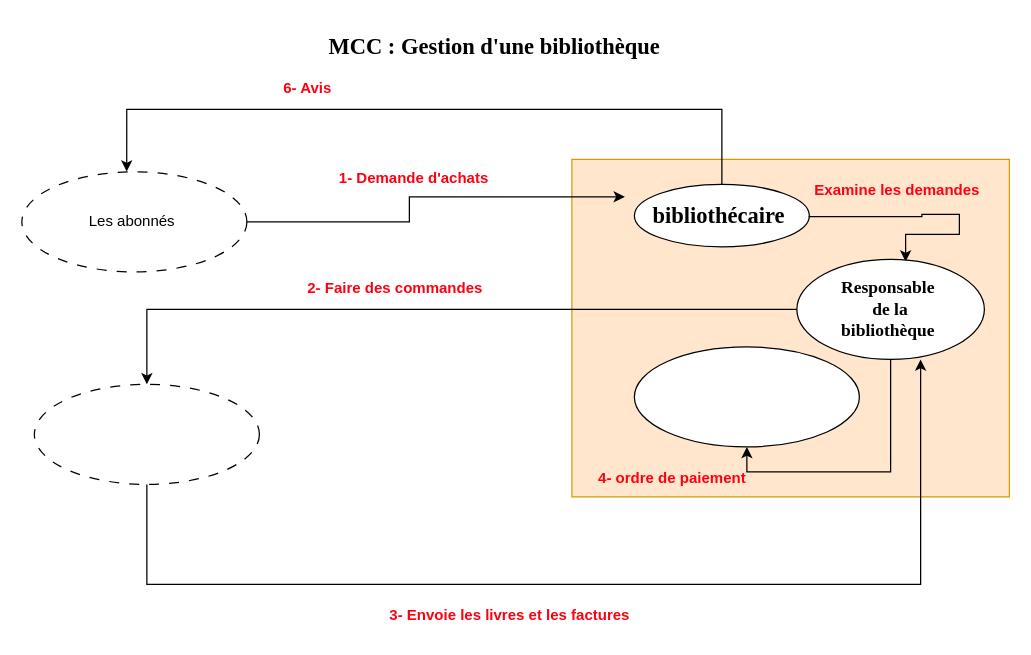
This 1031x655 diagram has some shape labels left out. The centre of each missing label's shape, as x and y in pixels:
"Service comptable" belongs at [746,396].
"éditeurs" belongs at [146,433].
